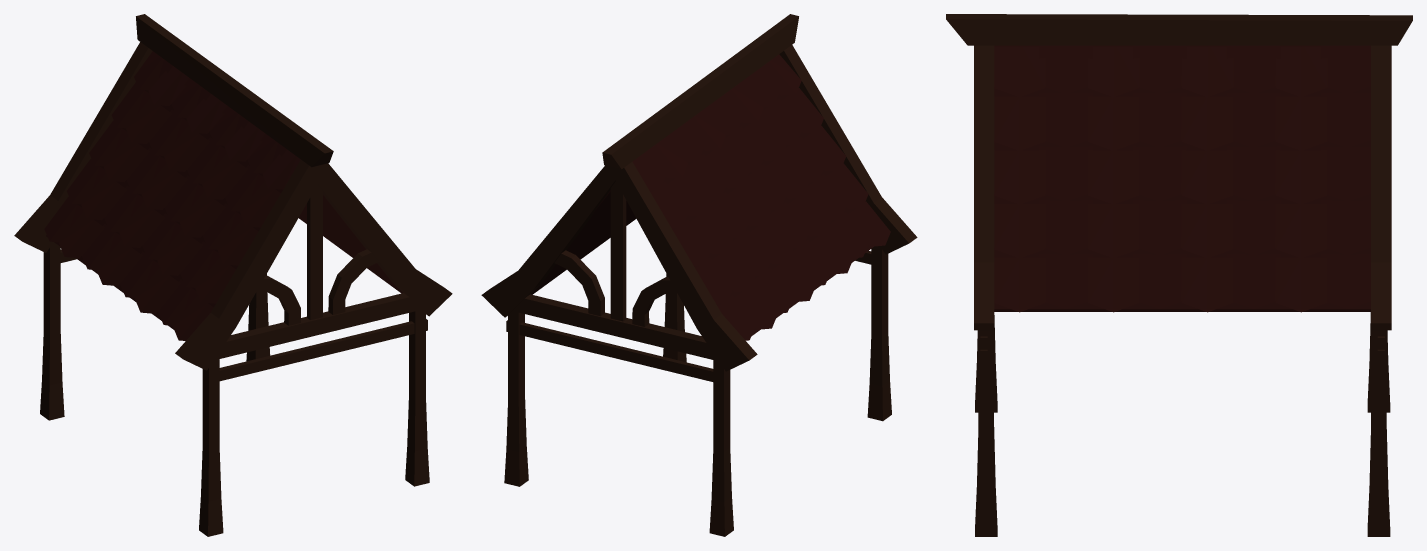
The model's file is Gazebo.obj.
3 views of the same model, side by side, from view 1: azimuth 30°, elevation 25°; view 2: azimuth 150°, elevation 25°; view 3: azimuth 270°, elevation 25° (orthographic). The views are drawn at different scales.
Visible parts, largest first — view 1: Gazebo; view 2: Gazebo; view 3: Gazebo.
Boxes of the visible parts, <box> form: Gazebo: <box>14,14,452,536</box>; Gazebo: <box>481,14,917,536</box>; Gazebo: <box>946,14,1412,536</box>.
Size of the model in its own units: 1.04 by 1.35 by 1.26.
